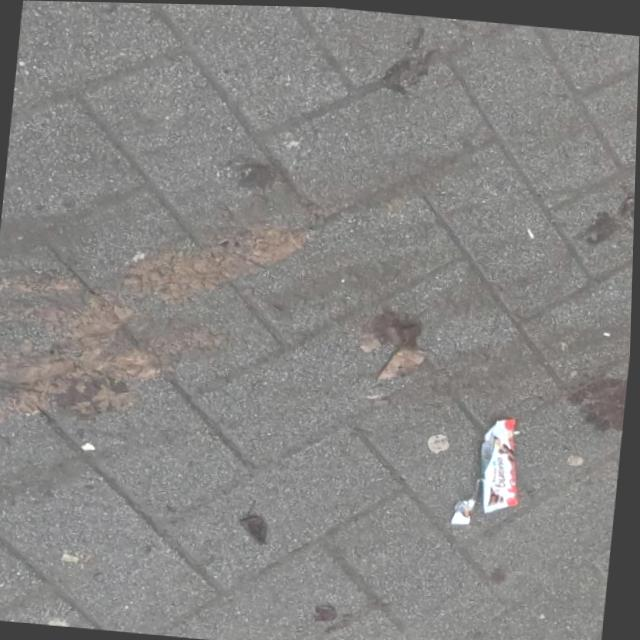Plastic: (451, 410, 529, 528)
